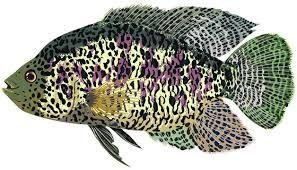Jaguar Gapote: (3, 1, 294, 170)
